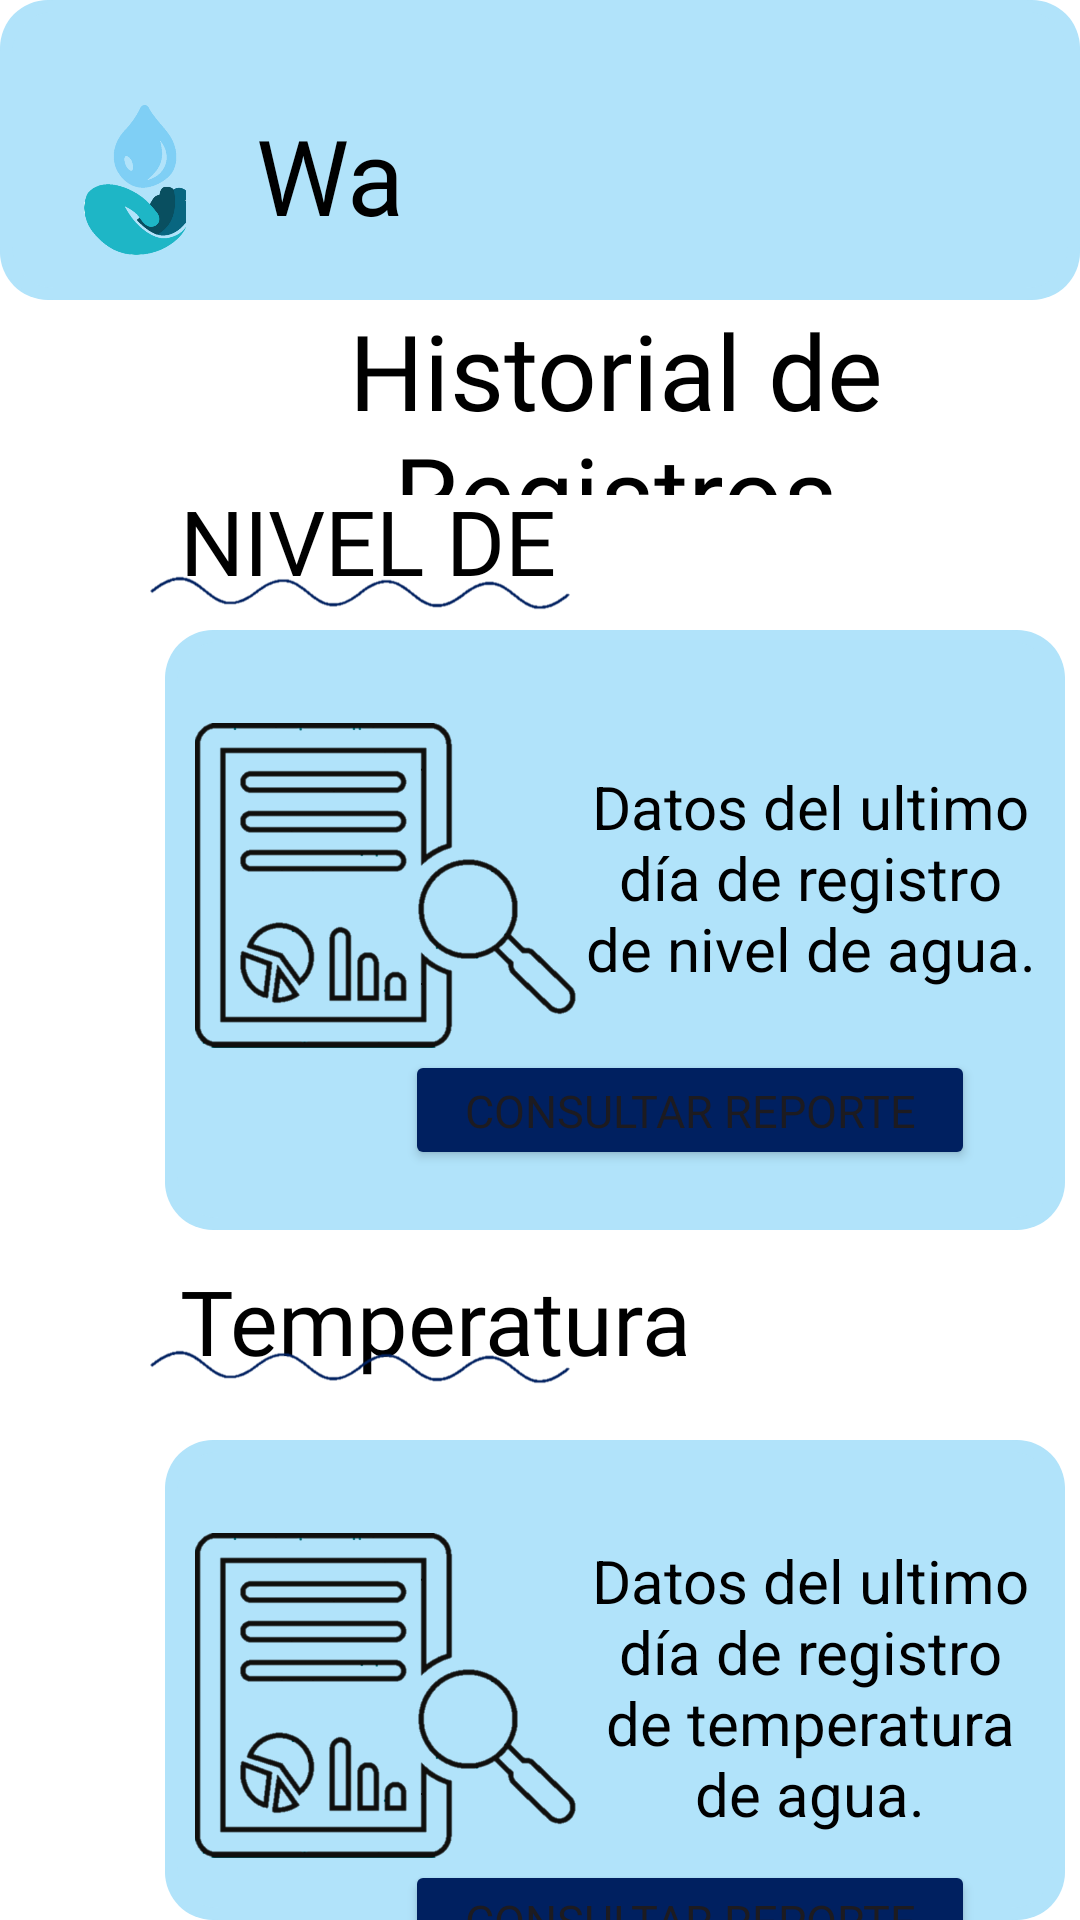

Named icons in this screenshot (1080px x 1920px) and their centers, point (x, y):
gotas: point (135, 180)
